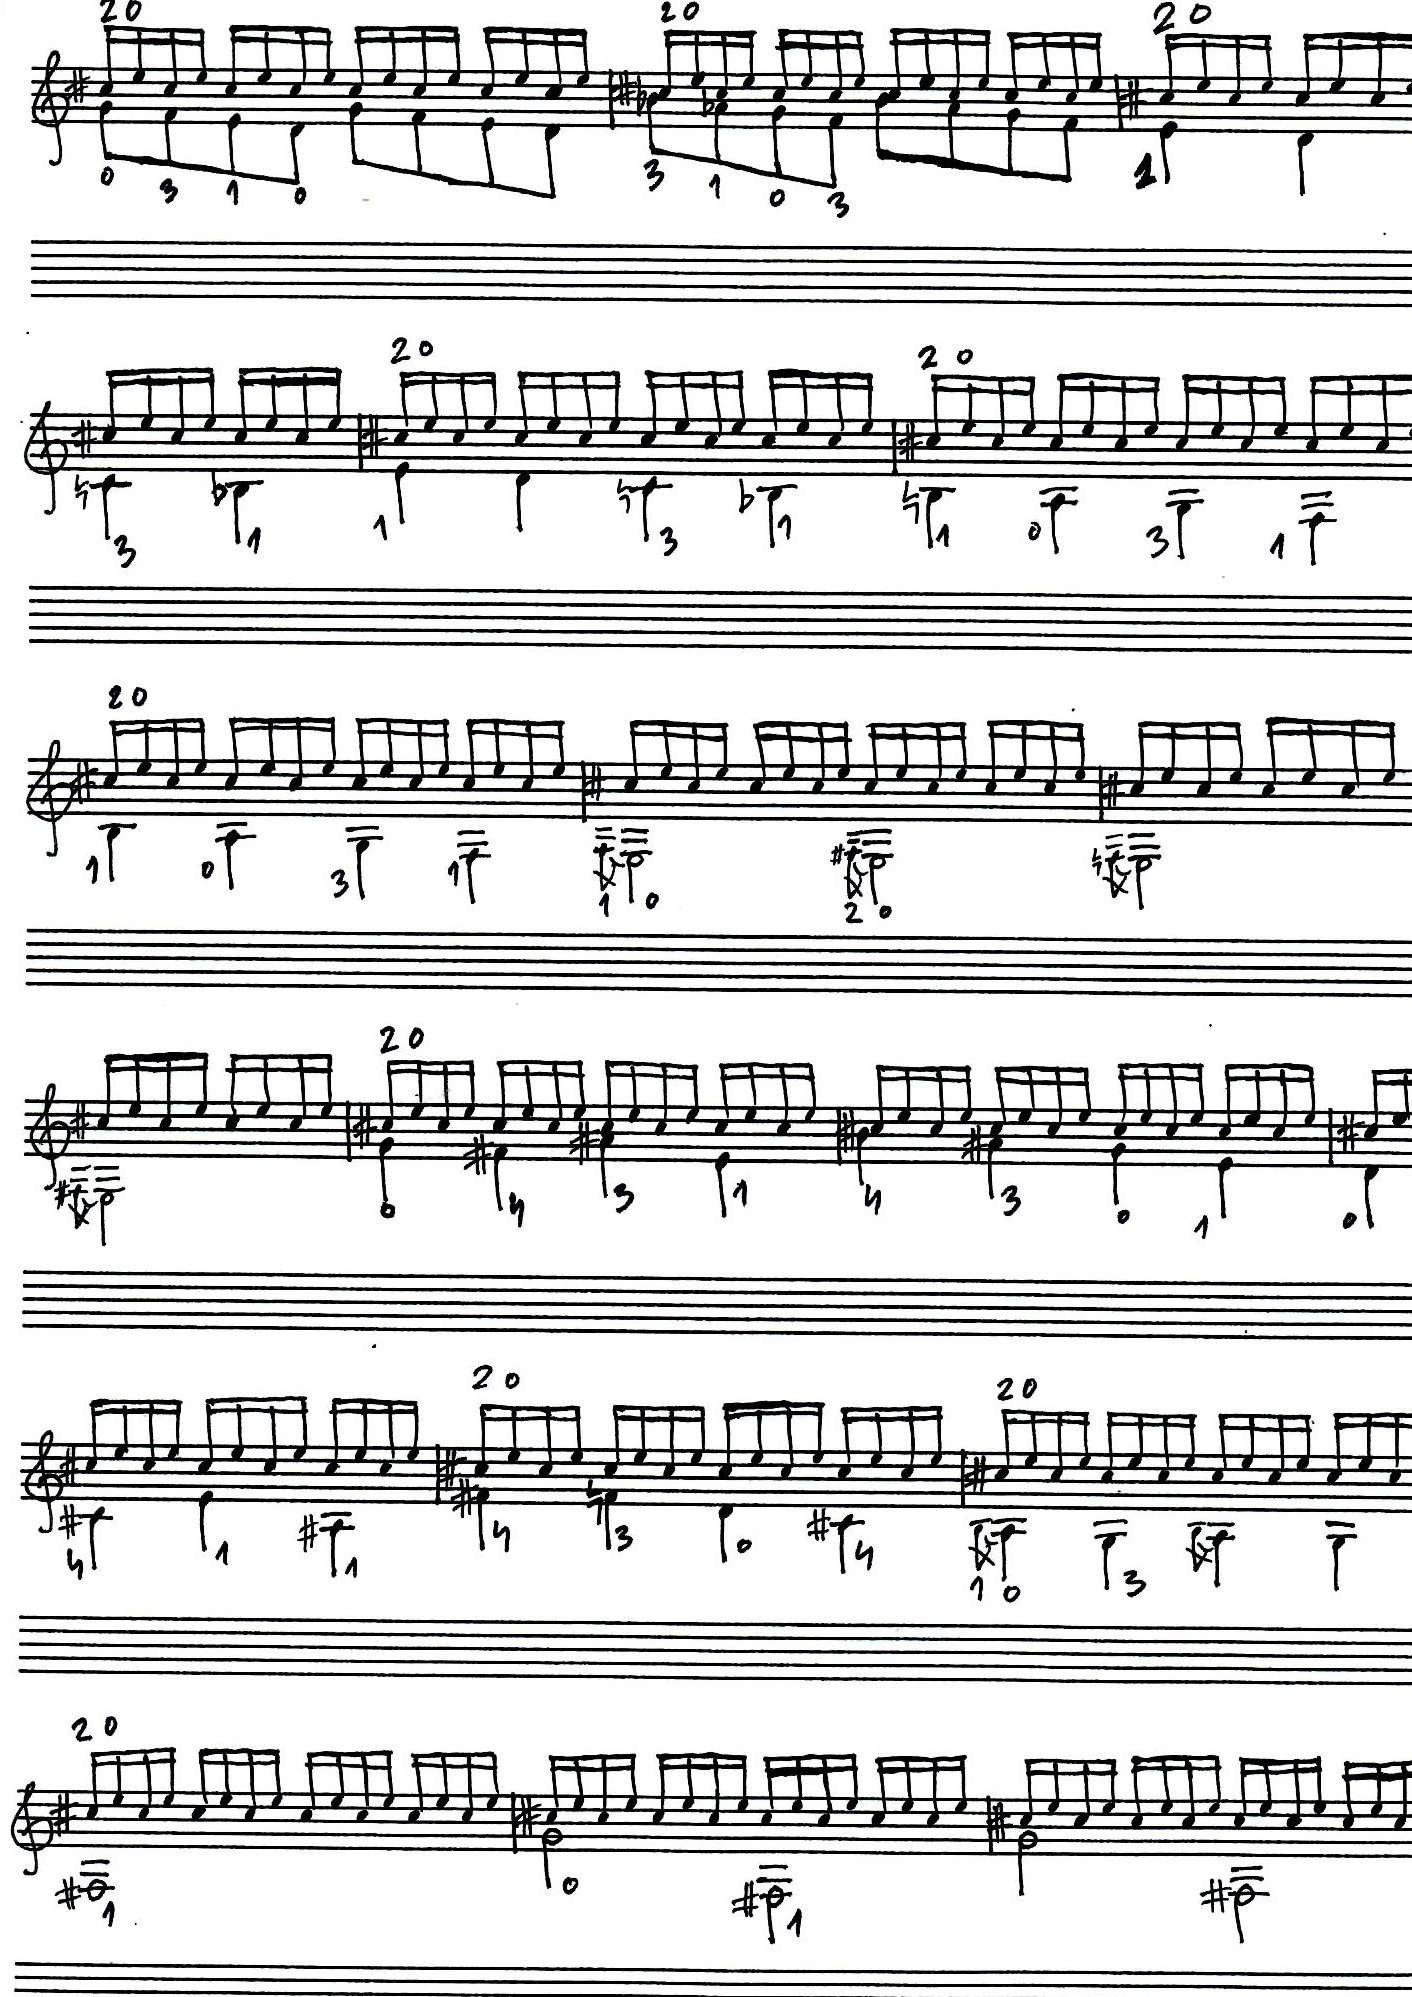Barline: (504, 1794, 523, 1855), (980, 1795, 996, 1858), (1111, 73, 1126, 134), (339, 1102, 355, 1163), (578, 758, 591, 825), (1093, 767, 1106, 827), (957, 1450, 970, 1510), (605, 67, 617, 130), (355, 413, 367, 474), (831, 1106, 842, 1169), (431, 1445, 442, 1507), (889, 419, 900, 478)
Beam: (1264, 715, 1401, 741), (1054, 370, 1169, 399), (766, 365, 876, 394), (237, 361, 347, 390), (480, 23, 593, 50), (984, 717, 1090, 746), (203, 1392, 313, 1419), (475, 1398, 585, 1426), (102, 21, 206, 50), (993, 1060, 1097, 1089), (602, 1054, 704, 1083), (351, 21, 465, 47), (1180, 371, 1293, 397), (102, 365, 222, 390), (929, 371, 1039, 397), (643, 367, 747, 394), (517, 367, 623, 393), (102, 1050, 209, 1076), (226, 1051, 339, 1076), (773, 26, 868, 55), (410, 1746, 504, 1775), (229, 21, 335, 47), (888, 23, 993, 49), (628, 717, 734, 743), (228, 712, 339, 736), (750, 720, 854, 746), (874, 1060, 976, 1086), (84, 1742, 186, 1768), (1164, 29, 1271, 53), (1305, 373, 1412, 397), (90, 1393, 185, 1421), (764, 1751, 863, 1777), (1022, 1756, 1122, 1782), (1300, 28, 1412, 50), (355, 715, 452, 741), (465, 715, 568, 740), (1135, 720, 1245, 743), (665, 24, 761, 50), (385, 1056, 478, 1082), (108, 715, 206, 740), (873, 1753, 970, 1777), (866, 721, 970, 744), (1007, 28, 1103, 52), (397, 368, 500, 391), (1224, 1060, 1319, 1085), (1129, 1753, 1224, 1777), (497, 1056, 585, 1082), (329, 1393, 422, 1418), (197, 1743, 284, 1769), (306, 1748, 397, 1772), (656, 1749, 753, 1772), (1116, 1060, 1206, 1085), (718, 1060, 818, 1082), (1238, 1756, 1326, 1777), (547, 1753, 639, 1772), (1340, 1760, 1412, 1782), (1368, 1066, 1412, 1089)
Eighth-Note: (478, 113, 500, 193), (93, 99, 119, 163), (542, 121, 562, 202), (157, 105, 180, 171), (286, 118, 307, 186), (769, 102, 787, 182), (1061, 115, 1080, 186), (944, 102, 964, 173), (873, 95, 892, 163), (711, 99, 730, 167), (1004, 108, 1022, 180), (827, 113, 844, 189), (225, 112, 243, 180), (410, 108, 426, 180), (345, 99, 362, 168), (645, 90, 660, 156)
Flat: (737, 477, 755, 519), (208, 472, 228, 507), (698, 90, 717, 118)
G-Clef: (24, 738, 73, 857), (21, 400, 70, 516), (28, 1082, 72, 1192), (31, 49, 69, 168), (23, 1429, 64, 1536), (11, 1782, 53, 1875)
Grace-Note: (591, 825, 616, 894), (69, 1164, 90, 1232), (1103, 833, 1125, 898), (844, 831, 860, 901), (969, 1516, 987, 1572)
Half-Note: (1229, 1863, 1270, 1944), (860, 825, 895, 908), (1126, 830, 1161, 912), (759, 1863, 793, 1947), (620, 827, 654, 905), (95, 1166, 125, 1247), (1015, 1832, 1041, 1899), (541, 1827, 562, 1892)
Natural: (900, 478, 921, 526), (585, 1478, 605, 1526), (73, 471, 92, 512), (614, 478, 634, 513), (1090, 845, 1103, 879)
Quarter-Note: (630, 468, 674, 544), (1297, 489, 1339, 567), (215, 819, 258, 894), (1039, 481, 1079, 558), (1164, 486, 1204, 562), (345, 822, 384, 901), (89, 471, 131, 539), (756, 480, 798, 550), (458, 827, 494, 908), (319, 1507, 358, 1578), (918, 481, 957, 552), (228, 475, 263, 547), (990, 1514, 1027, 1583), (1093, 1516, 1126, 1591), (1323, 1519, 1357, 1592), (79, 1503, 115, 1572), (99, 820, 136, 885), (831, 1510, 865, 1575), (1207, 1520, 1236, 1589), (1157, 121, 1181, 188), (712, 1151, 734, 1219), (377, 1137, 397, 1201), (1294, 130, 1313, 197), (513, 469, 532, 536), (491, 1146, 509, 1213), (598, 1134, 616, 1199), (1216, 1157, 1235, 1222), (393, 460, 410, 529), (1363, 1163, 1380, 1232), (717, 1500, 734, 1568), (986, 1137, 1002, 1201), (1109, 1143, 1126, 1207), (196, 1490, 212, 1554), (475, 1485, 489, 1552), (604, 1490, 617, 1552), (856, 1128, 870, 1187)
Sharp: (568, 1121, 601, 1166), (963, 1452, 995, 1496), (50, 1789, 79, 1837), (351, 1105, 381, 1151), (1120, 78, 1151, 121), (1200, 1876, 1232, 1916), (463, 1135, 494, 1177), (730, 1879, 761, 1921), (439, 1447, 468, 1490), (72, 761, 99, 805), (510, 1797, 542, 1834), (73, 416, 101, 458), (986, 1800, 1012, 1844), (610, 67, 637, 108), (361, 416, 387, 458), (584, 761, 610, 804), (804, 1507, 833, 1545), (897, 420, 921, 464), (1336, 1112, 1365, 1149), (55, 1876, 83, 1914), (64, 64, 90, 102), (452, 1481, 478, 1519), (836, 1109, 857, 1154), (963, 1128, 987, 1166), (60, 1445, 84, 1484), (1100, 773, 1126, 808), (70, 1103, 93, 1143), (296, 1513, 319, 1552), (60, 1505, 83, 1539), (55, 1180, 70, 1212), (830, 840, 847, 869)
Sixteenth-Note: (289, 18, 312, 102), (196, 1397, 219, 1481), (1284, 1749, 1307, 1834), (685, 715, 708, 798), (639, 367, 662, 448), (96, 24, 121, 99), (1112, 367, 1134, 452), (1375, 370, 1397, 455), (289, 1050, 310, 1135), (925, 720, 947, 799), (451, 367, 472, 451), (287, 712, 309, 796), (1340, 717, 1362, 801), (662, 1400, 683, 1484), (189, 1743, 211, 1827), (1232, 1742, 1252, 1832), (160, 21, 183, 99), (351, 712, 373, 795), (1163, 1059, 1184, 1141), (377, 1398, 399, 1481), (1126, 1751, 1148, 1834), (1158, 32, 1181, 108), (491, 1057, 513, 1134), (870, 1753, 892, 1829), (759, 370, 781, 451), (1239, 373, 1261, 454), (1216, 1063, 1238, 1144), (325, 1393, 345, 1481), (241, 1740, 261, 1827), (756, 1753, 779, 1827), (393, 370, 414, 449), (1048, 368, 1068, 454), (223, 712, 245, 791), (749, 717, 770, 796), (1259, 718, 1281, 798), (536, 1401, 558, 1481), (1339, 1754, 1360, 1834), (704, 367, 724, 451), (1307, 371, 1326, 455), (157, 1050, 177, 1134), (261, 1393, 281, 1478), (1326, 1406, 1346, 1490), (1294, 32, 1316, 110), (578, 370, 599, 448), (1129, 720, 1151, 798), (1042, 717, 1062, 799), (1197, 718, 1216, 801), (1181, 1751, 1201, 1834), (706, 1749, 727, 1826), (293, 365, 313, 446), (827, 371, 847, 452), (810, 720, 830, 801), (1047, 1060, 1067, 1141), (1111, 1059, 1131, 1140), (604, 1398, 623, 1479), (717, 1403, 737, 1484), (1050, 1404, 1070, 1485), (1210, 1409, 1232, 1484), (223, 21, 243, 101), (1064, 29, 1083, 108), (926, 371, 946, 451), (1386, 1410, 1406, 1490), (1259, 1740, 1279, 1820), (1175, 367, 1193, 452), (1187, 1054, 1209, 1128), (836, 1409, 857, 1482), (1394, 1751, 1412, 1837), (410, 21, 429, 99), (546, 24, 565, 102), (775, 1059, 795, 1137), (222, 1051, 240, 1135), (672, 367, 694, 439), (1142, 370, 1163, 442), (1339, 368, 1360, 440), (348, 23, 368, 99), (772, 26, 792, 102), (714, 1062, 734, 1138), (928, 1062, 947, 1138), (84, 1748, 104, 1824), (653, 1751, 672, 1827), (1371, 28, 1389, 110), (232, 364, 251, 446), (96, 1051, 115, 1134), (779, 1398, 798, 1481), (1160, 717, 1181, 787), (478, 24, 498, 99), (325, 361, 345, 435), (1080, 367, 1100, 442), (653, 1063, 672, 1138), (170, 365, 188, 446), (623, 717, 642, 798), (436, 1057, 454, 1138), (1271, 1060, 1290, 1141), (900, 1403, 918, 1484), (461, 1057, 484, 1121), (546, 1056, 564, 1135), (989, 1063, 1009, 1137), (141, 1397, 159, 1476), (475, 1403, 494, 1482), (1024, 1401, 1044, 1474), (1100, 1407, 1119, 1487), (258, 714, 280, 781), (408, 715, 426, 793), (863, 720, 882, 798), (995, 1406, 1013, 1484), (1074, 1756, 1093, 1834), (730, 367, 750, 439), (1244, 1059, 1264, 1131), (1304, 1059, 1323, 1131), (506, 1398, 526, 1470), (406, 1753, 426, 1824), (512, 23, 533, 89), (779, 717, 801, 782), (828, 28, 847, 104), (165, 714, 183, 790), (458, 1749, 477, 1826), (1206, 1743, 1224, 1820), (481, 367, 501, 437), (546, 367, 565, 437), (381, 712, 400, 782), (1300, 717, 1320, 787), (743, 1057, 763, 1128), (992, 373, 1009, 455), (657, 28, 675, 102), (1006, 31, 1024, 105), (1227, 32, 1245, 107), (925, 1756, 943, 1830), (422, 367, 442, 435), (319, 712, 339, 781), (1016, 1056, 1036, 1125), (112, 1395, 131, 1464), (1357, 1406, 1377, 1474), (954, 1749, 973, 1818), (984, 717, 1001, 798), (102, 718, 121, 791), (1365, 1071, 1383, 1144), (816, 1753, 834, 1826), (1126, 1409, 1148, 1471), (1181, 1409, 1203, 1471), (513, 368, 530, 448), (859, 370, 879, 437), (960, 371, 980, 439), (1380, 717, 1400, 784), (804, 1059, 824, 1126), (596, 1749, 613, 1829), (1210, 371, 1229, 443), (1273, 373, 1291, 445), (125, 1050, 144, 1121), (319, 1051, 338, 1123), (229, 1392, 248, 1464), (293, 1390, 312, 1462), (217, 1740, 235, 1812), (461, 715, 478, 793), (381, 1057, 397, 1135), (300, 1746, 316, 1824), (355, 1748, 371, 1826), (960, 1063, 981, 1125), (1329, 29, 1349, 95), (1076, 1060, 1096, 1126), (381, 1746, 400, 1812), (734, 1749, 753, 1815), (1369, 1756, 1389, 1821), (796, 367, 814, 437), (255, 1051, 274, 1121), (1195, 31, 1215, 95), (193, 1050, 211, 1118), (897, 1059, 915, 1128), (102, 370, 119, 445), (138, 1746, 154, 1821), (607, 371, 627, 434), (408, 1059, 428, 1121), (108, 1746, 128, 1809), (947, 28, 964, 101), (1019, 371, 1038, 439), (659, 715, 677, 782), (1013, 715, 1031, 782), (521, 1057, 539, 1125), (601, 1060, 617, 1134), (1138, 1054, 1155, 1128), (434, 1743, 452, 1811), (484, 1746, 503, 1814), (1158, 1751, 1177, 1818), (134, 717, 154, 778), (1392, 1066, 1412, 1128), (264, 362, 281, 434), (546, 1756, 562, 1827), (1313, 1746, 1329, 1818), (715, 717, 734, 782), (572, 1057, 590, 1123), (633, 1401, 651, 1467), (689, 1403, 708, 1468), (162, 1743, 180, 1809), (682, 1749, 700, 1815), (889, 28, 905, 105), (521, 717, 536, 795), (836, 720, 856, 779), (715, 28, 732, 98), (203, 364, 220, 434), (353, 1395, 370, 1465), (321, 23, 339, 87), (918, 26, 937, 90), (627, 1060, 645, 1125), (406, 1400, 425, 1464), (1157, 1410, 1172, 1487), (1268, 1410, 1284, 1487), (976, 26, 993, 95), (749, 1400, 766, 1468), (810, 1398, 827, 1467), (929, 1401, 946, 1470), (269, 1743, 286, 1812), (436, 717, 454, 779), (84, 1401, 99, 1476), (382, 21, 399, 89), (1038, 28, 1054, 95), (1088, 29, 1105, 96), (193, 712, 209, 779), (167, 1397, 183, 1464), (1241, 1406, 1258, 1473), (894, 720, 912, 781), (871, 1063, 886, 1137), (740, 24, 756, 90), (799, 26, 816, 92), (1259, 31, 1276, 96), (1073, 720, 1090, 785), (1229, 721, 1245, 787), (685, 1062, 701, 1128), (870, 1403, 886, 1468), (1045, 1754, 1062, 1820), (131, 21, 148, 86), (257, 21, 274, 86), (954, 720, 970, 784), (568, 1403, 585, 1467), (196, 23, 212, 86), (688, 26, 704, 89), (853, 28, 870, 90), (329, 1748, 345, 1811), (625, 1749, 642, 1812), (899, 1751, 915, 1814), (1077, 1403, 1093, 1471), (1019, 1759, 1035, 1827), (1296, 1407, 1311, 1474), (1102, 1753, 1117, 1820), (448, 21, 463, 87), (141, 365, 156, 431), (552, 714, 567, 779), (568, 1753, 585, 1812), (576, 24, 591, 89), (792, 1751, 807, 1814), (845, 1751, 860, 1814), (491, 715, 504, 778)
Tie-Slur: (851, 862, 871, 879), (1197, 1539, 1213, 1555), (81, 1195, 99, 1210), (1114, 865, 1134, 879), (610, 856, 625, 871), (981, 1534, 999, 1546)
Whole-Note: (78, 1858, 118, 1904)
